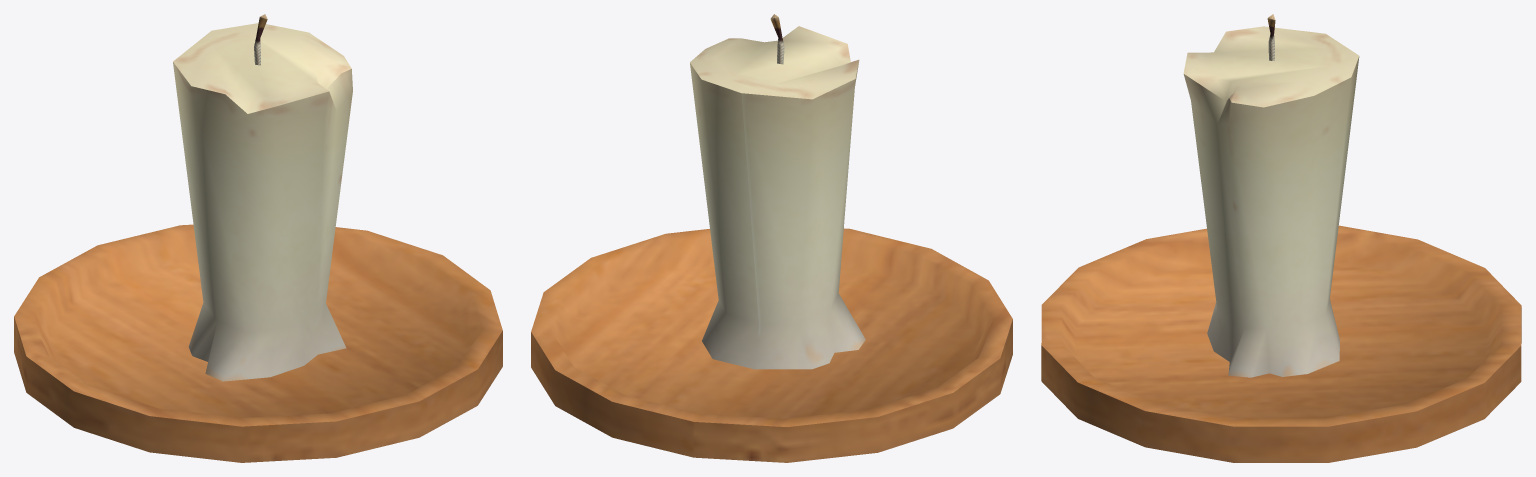
The model's file is Ht_lazhu_01.FBX.
3 renders of one model, left to right at view 1: azimuth 30°, elevation 25°; view 2: azimuth 150°, elevation 25°; view 3: azimuth 270°, elevation 25°, orthographic.
Parts seen in each view (by area): view 1: Ht_lazhu_01; view 2: Ht_lazhu_01; view 3: Ht_lazhu_01.
Part boxes in pixels (box(x1,y1,x2,y2)): Ht_lazhu_01: box(14, 14, 502, 462); Ht_lazhu_01: box(531, 14, 1012, 462); Ht_lazhu_01: box(1041, 14, 1521, 462).
Bounding box in the file's own units: 27.75 × 22.2 × 27.75.
